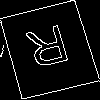R: (23, 24, 75, 78)
